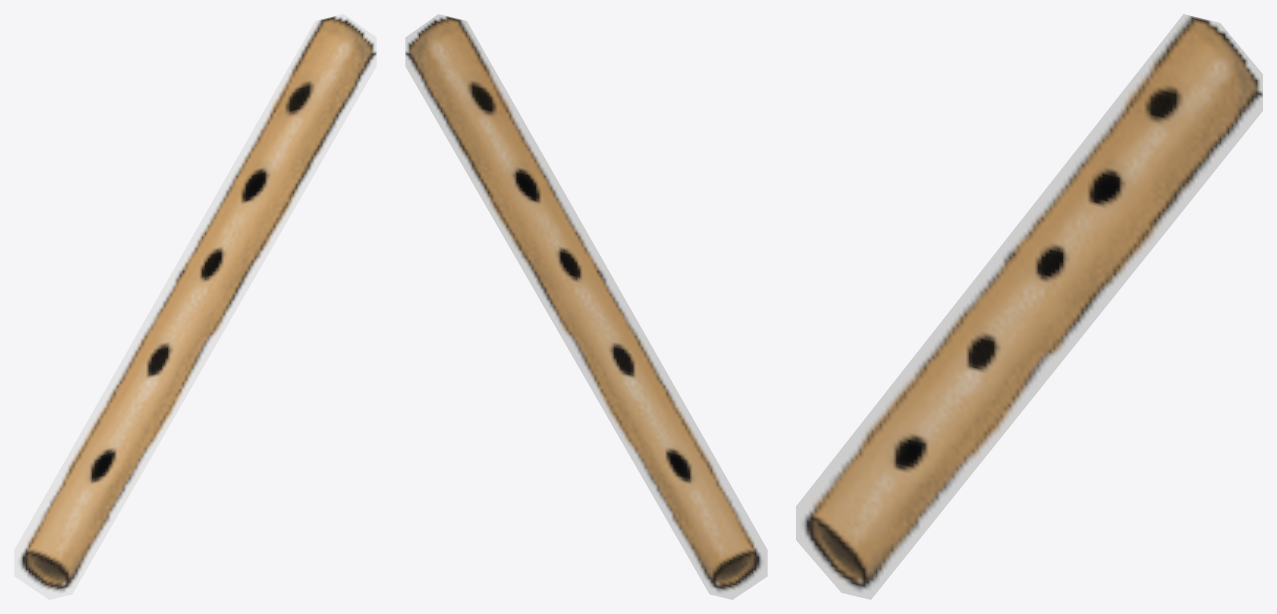
3 views of the same model, side by side, from view 1: azimuth 30°, elevation 25°; view 2: azimuth 150°, elevation 25°; view 3: azimuth 330°, elevation 25° (orthographic). The views are drawn at different scales.
Parts seen in each view (by area): view 1: Plane; view 2: Plane; view 3: Plane.
Part boxes in pixels (box(x1,y1,x2,y2)): Plane: box(14, 14, 376, 599); Plane: box(405, 14, 767, 599); Plane: box(796, 14, 1262, 599).
Bounding box in the file's own units: 2.31 × 3.13 × 0.
1 material, 1 textured.
